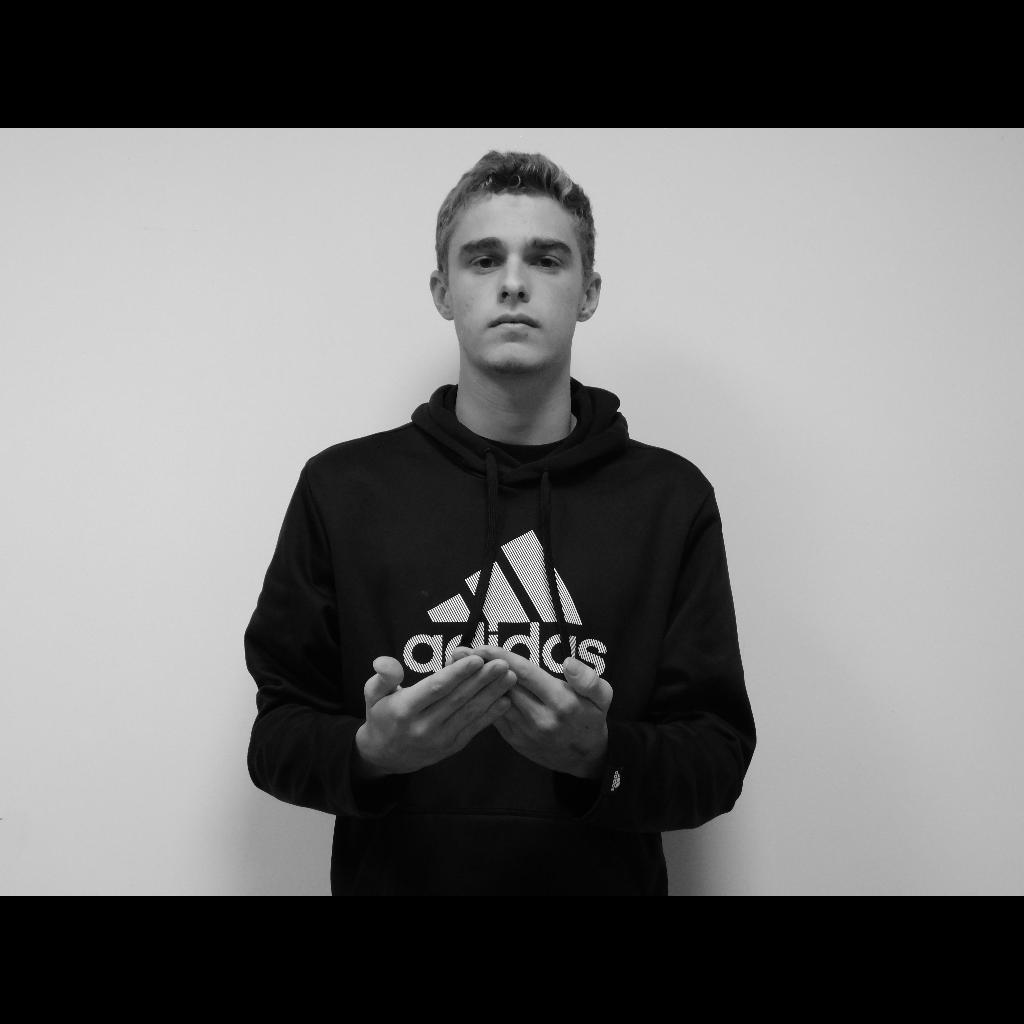good: (364, 646, 612, 774)
